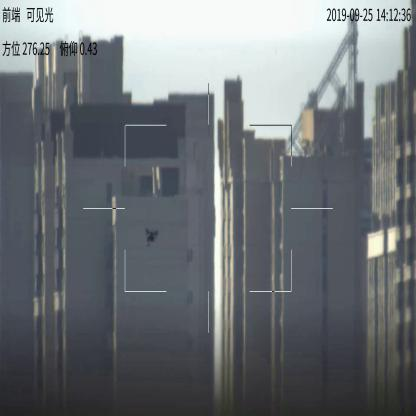uav: (142, 224, 161, 247)
